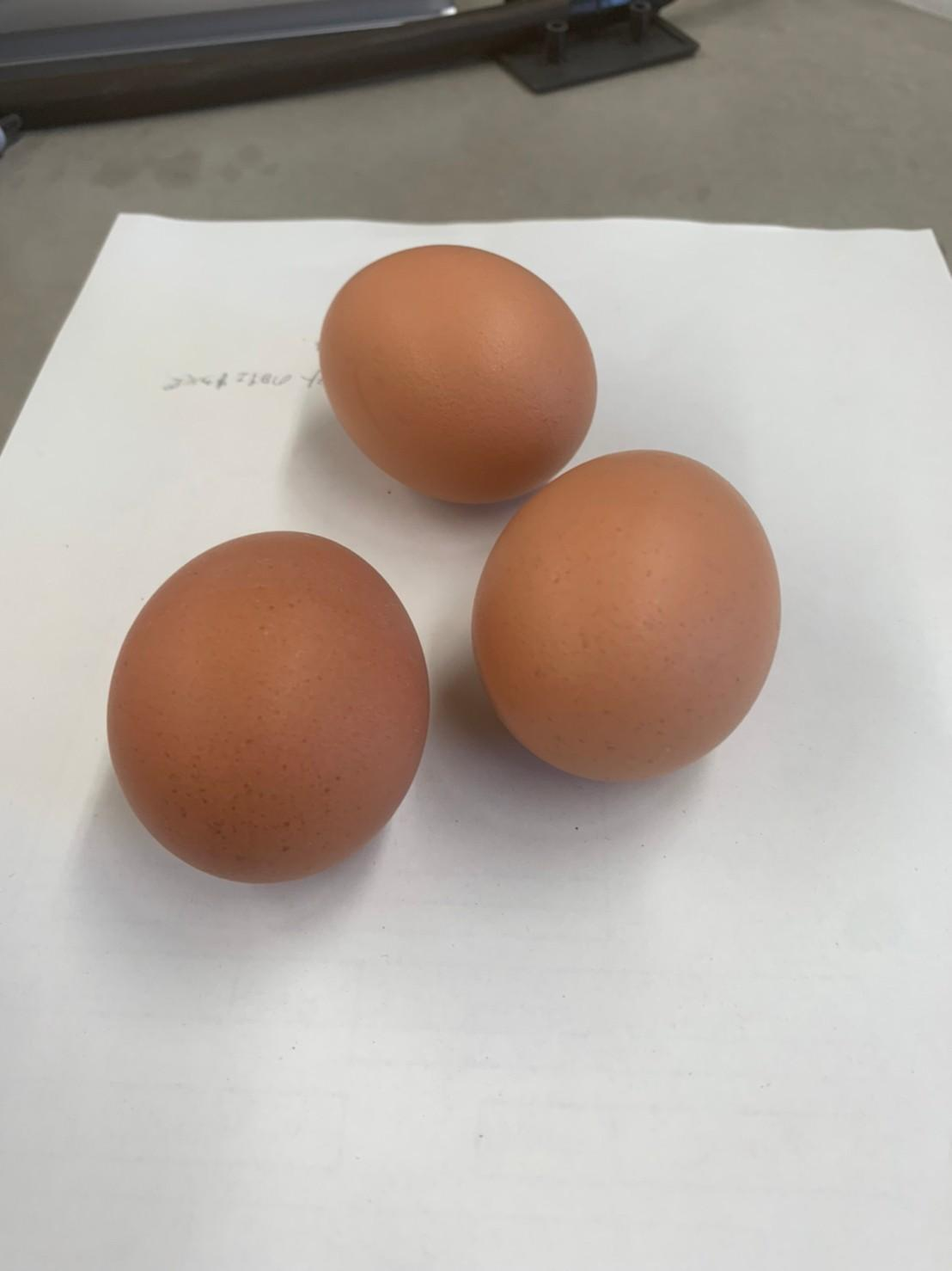egg: (99, 521, 436, 893), (467, 449, 786, 786), (312, 238, 597, 507)
